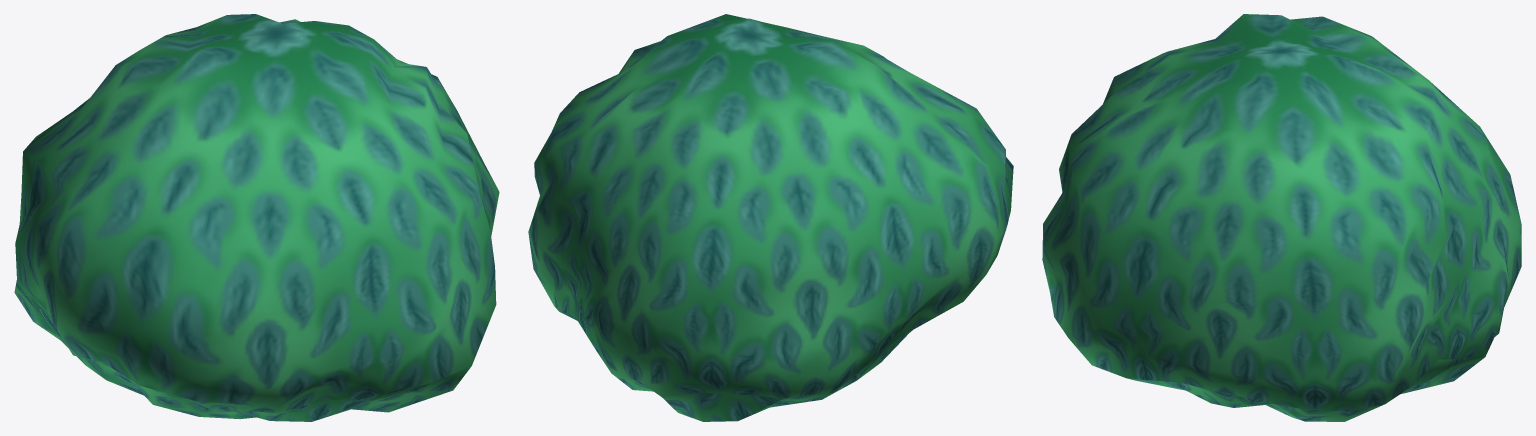
Rendered from Bush.fbx.
3 renders of one model, left to right at view 1: azimuth 30°, elevation 25°; view 2: azimuth 150°, elevation 25°; view 3: azimuth 270°, elevation 25°, orthographic. The views are drawn at different scales.
Parts seen in each view (by area): view 1: Busch; view 2: Busch; view 3: Busch.
Part boxes in pixels (x1,y1,x2,y2): Busch: [14, 14, 499, 421]; Busch: [528, 14, 1013, 421]; Busch: [1042, 14, 1521, 421].
Size of the model in its own units: 394 by 312 by 392.
